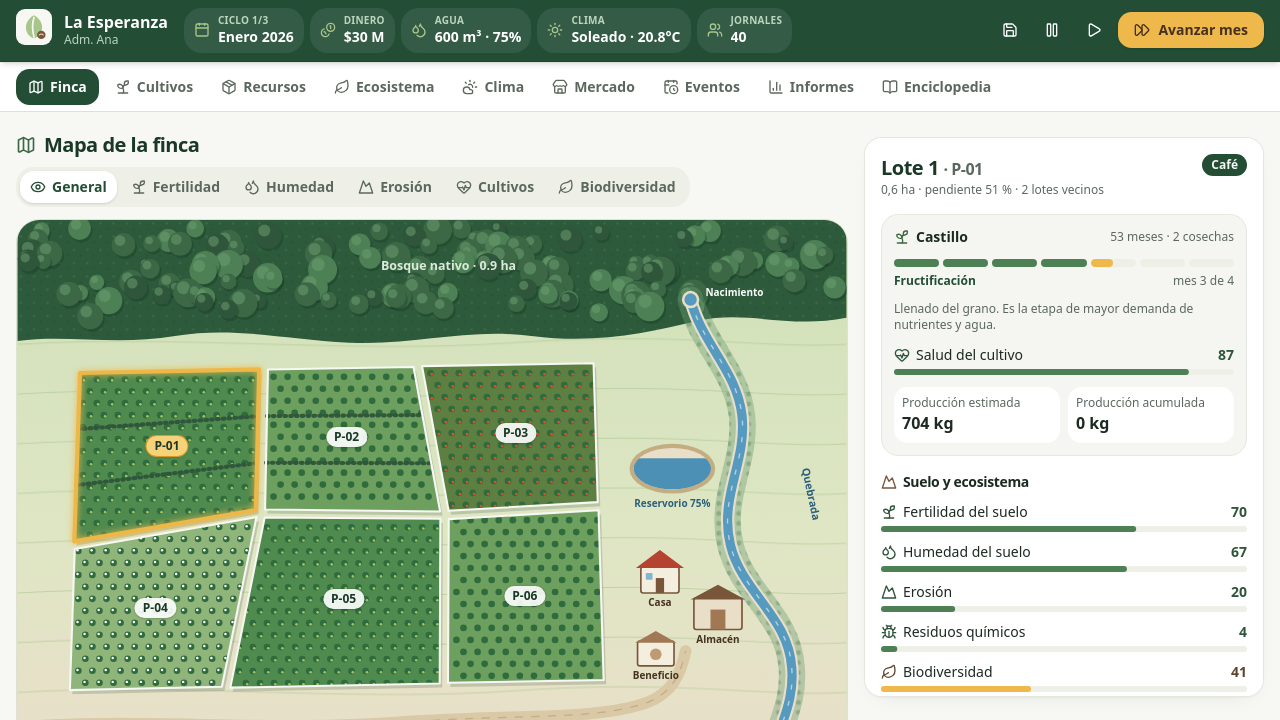
Test: Pantalla principal del juego › avanzar el mes muestra el resumen del turno
Click the button with test id "advance-month".
click(1191, 30)  # box top-left (1118, 12), bottom-right (1264, 48)
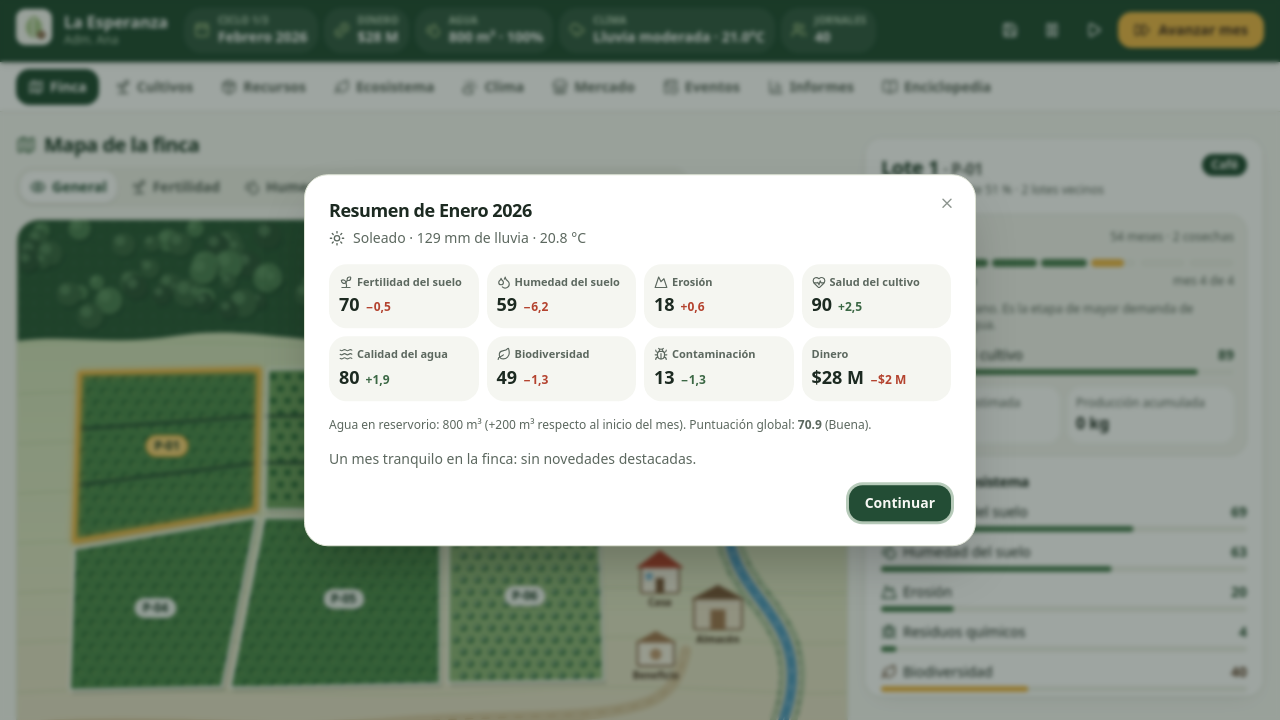
Now the dialog with test id "turn-summary" is shown, box top-left (304, 174), bottom-right (976, 546)
